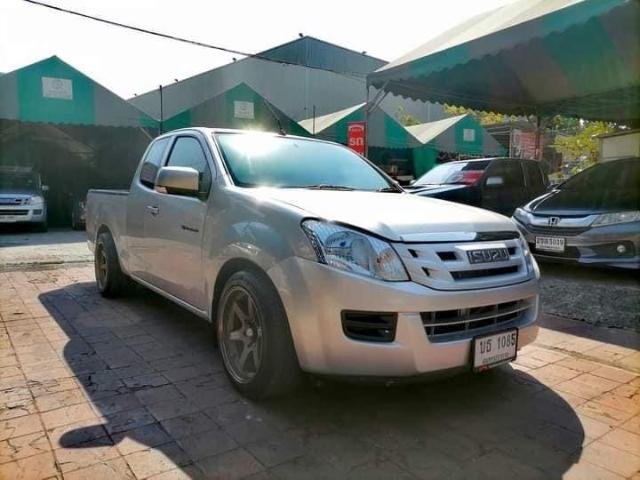pickup-truck: (72, 114, 550, 412)
